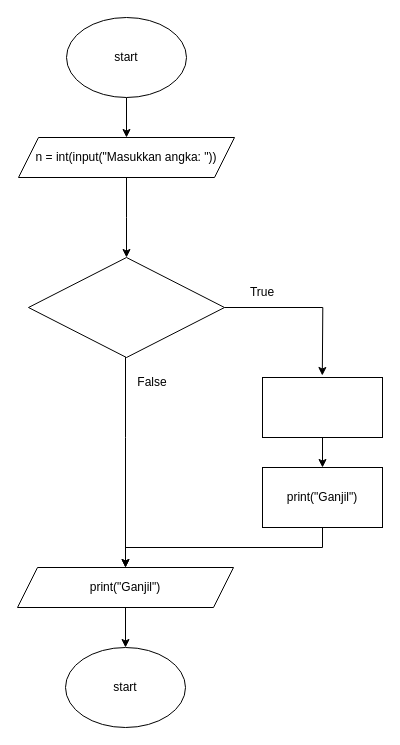
Image size: 400x745. Some labels were removed from this diagram. The shapes that lost their labels are listed below. From the top down, each one's centre as x and y in pixels, then its label:
point 126,307: if nilai >= nilai_minimal_kelulusan:
point 322,407: print("Genap")
